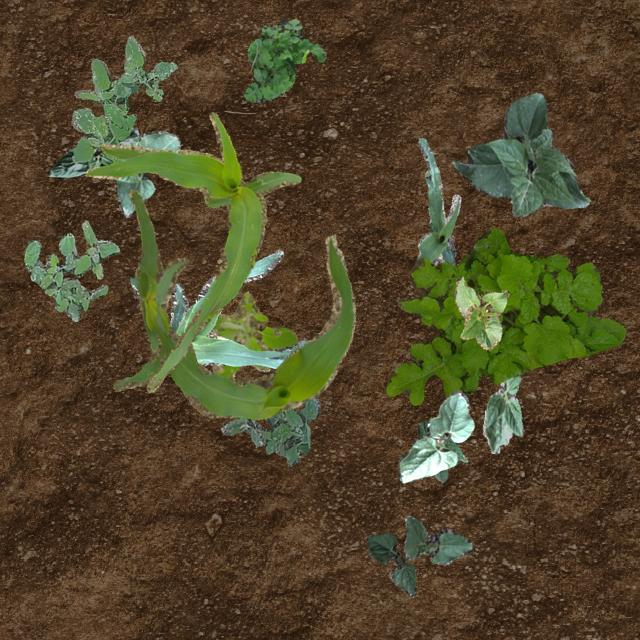crop: (83, 110, 300, 392), (113, 188, 354, 418), (128, 248, 308, 368), (450, 91, 590, 216), (397, 389, 472, 482), (112, 130, 178, 216), (416, 136, 460, 264), (46, 126, 138, 178), (453, 276, 508, 348), (402, 514, 472, 564), (482, 372, 522, 454), (366, 532, 416, 596), (416, 418, 466, 482)
weed: (383, 228, 624, 404), (70, 35, 176, 162), (22, 220, 118, 320), (210, 290, 296, 376), (220, 396, 320, 466), (242, 18, 324, 102)
